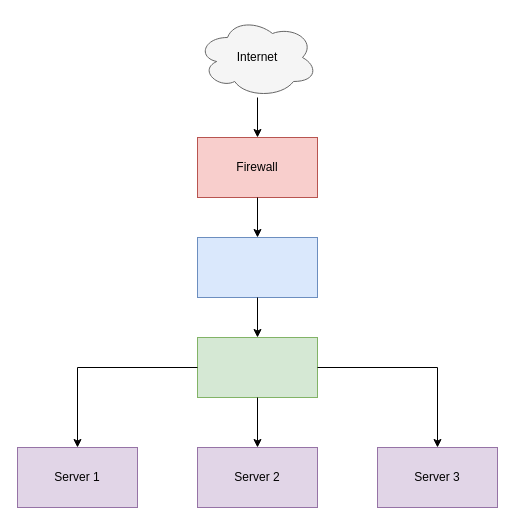
This 515x525 diagram has some shape labels left out. Each missing label, with the centre of its shape:
"Router" belongs at pixel 257 267.
"Switch" belongs at pixel 257 367.
